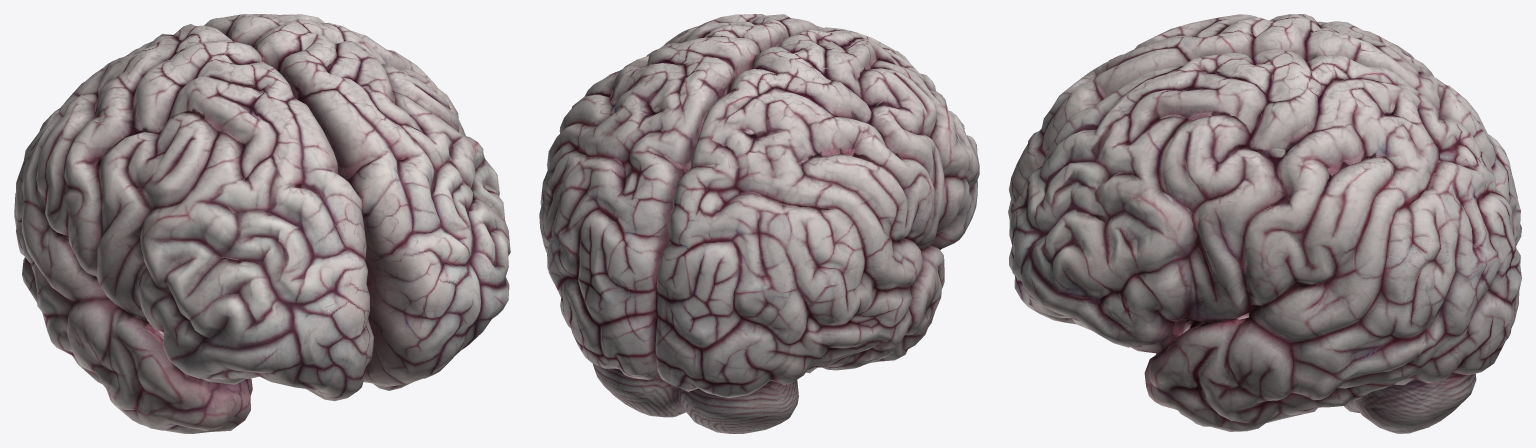
File: brain.glb
The picture shows the model from 3 angles, left to right: view 1: azimuth 30°, elevation 25°; view 2: azimuth 150°, elevation 25°; view 3: azimuth 270°, elevation 25°; orthographic projection. The views are drawn at different scales.
Bounding box in the file's own units: 1.63 × 1.5 × 1.91.
1 material, 1 textured.
